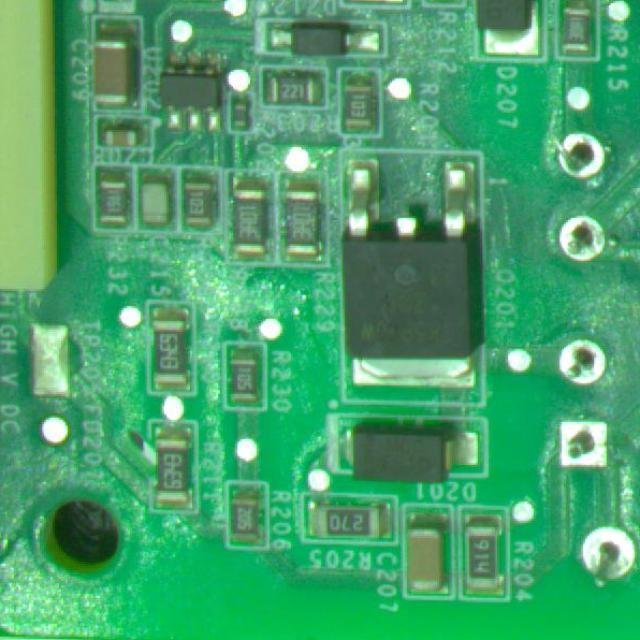Insufficient solder: (548, 198, 618, 270), (569, 520, 640, 586), (546, 412, 614, 479), (552, 124, 618, 184), (556, 330, 608, 390)
